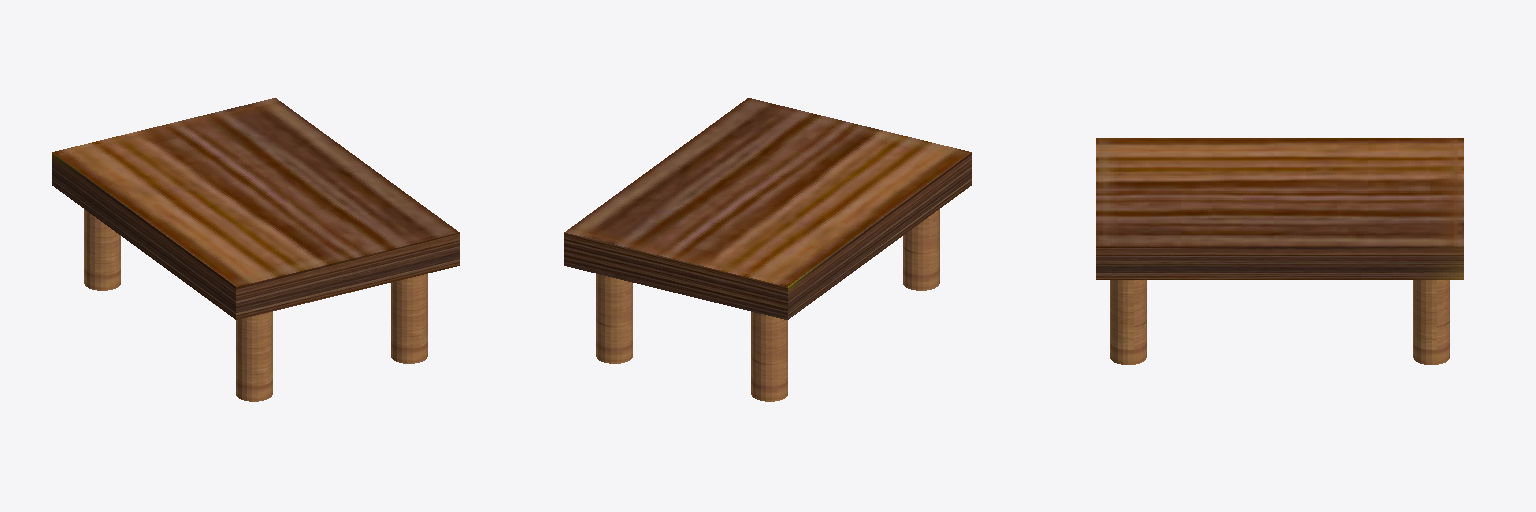
The picture shows the model from 3 angles: view 1: azimuth 30°, elevation 25°; view 2: azimuth 150°, elevation 25°; view 3: azimuth 270°, elevation 25°; orthographic projection.
Size of the model in its own units: 7 by 3.82 by 10.
1 materials, 1 textured.